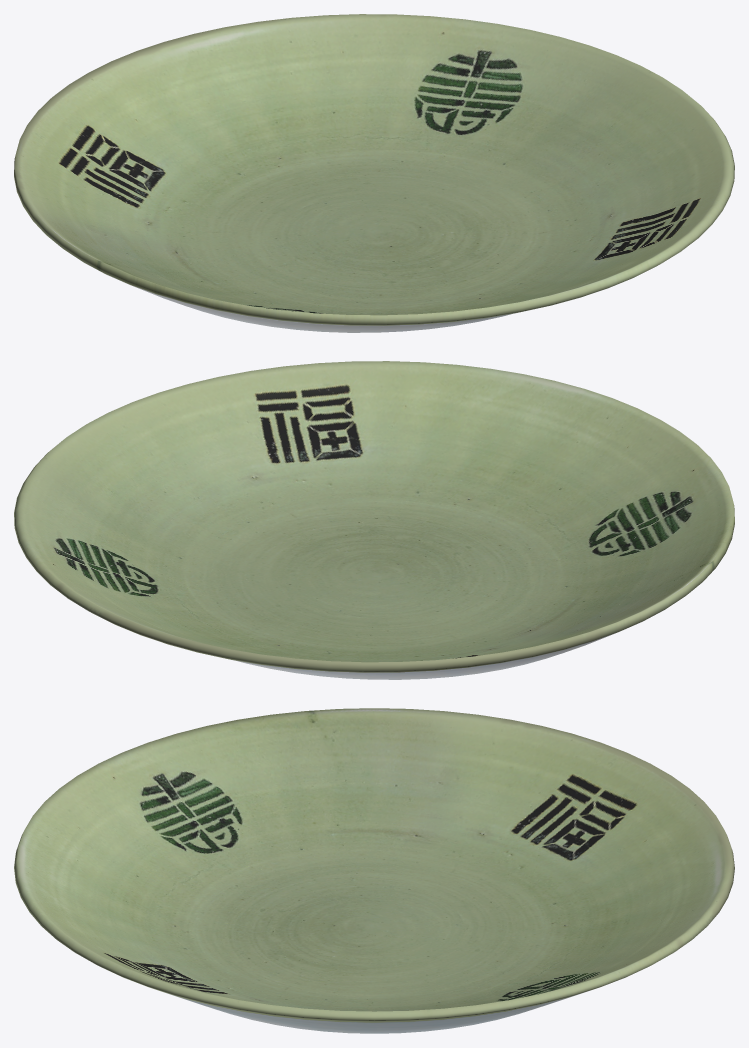
Rendered from SM_WhitePorcelainDish210.fbx.
3 views of the same model, one above another, from view 1: azimuth 30°, elevation 25°; view 2: azimuth 150°, elevation 25°; view 3: azimuth 270°, elevation 25° (orthographic).
Parts seen in each view (by area): view 1: SM_WhitePorcelainDish210; view 2: SM_WhitePorcelainDish210; view 3: SM_WhitePorcelainDish210.
Boxes of the visible parts, bbox=[...] form: SM_WhitePorcelainDish210: bbox=[14, 14, 734, 332]; SM_WhitePorcelainDish210: bbox=[14, 361, 734, 679]; SM_WhitePorcelainDish210: bbox=[14, 708, 734, 1033].
Bounding box in the file's own units: 21.25 × 2.84 × 21.25.
Materials: 1 (1 with a texture image).
